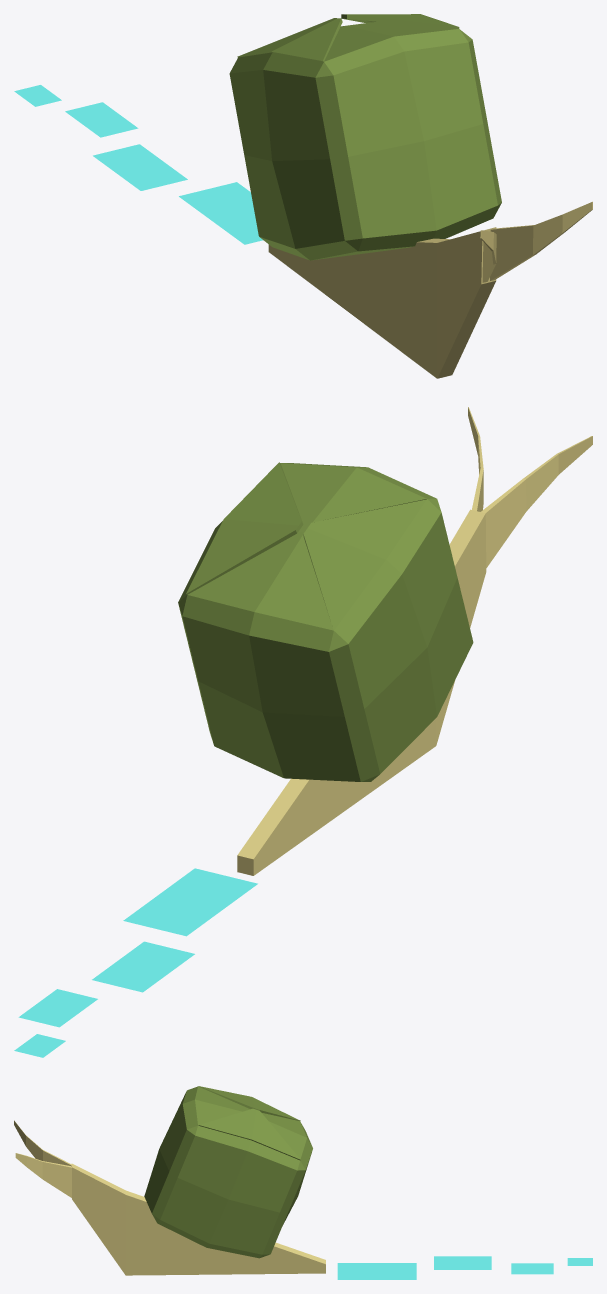
File: SNAIL_LITTLE.fbx
3 views of the same model, one above another, from view 1: azimuth 30°, elevation 25°; view 2: azimuth 150°, elevation 25°; view 3: azimuth 270°, elevation 25° (orthographic). The views are drawn at different scales.
Parts seen in each view (by area): view 1: ESCARGOT_2.003; view 2: ESCARGOT_2.003; view 3: ESCARGOT_2.003.
Boxes of the visible parts, bbox=[...] form: ESCARGOT_2.003: bbox=[14, 14, 592, 378]; ESCARGOT_2.003: bbox=[14, 407, 592, 1057]; ESCARGOT_2.003: bbox=[14, 1086, 592, 1279].
Bounding box in the file's own units: 72.78 × 110 × 328.
